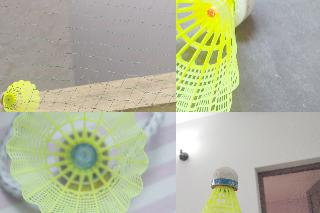shuttlecock: (7, 112, 148, 212), (176, 0, 256, 111), (191, 166, 253, 212), (0, 79, 40, 111)
